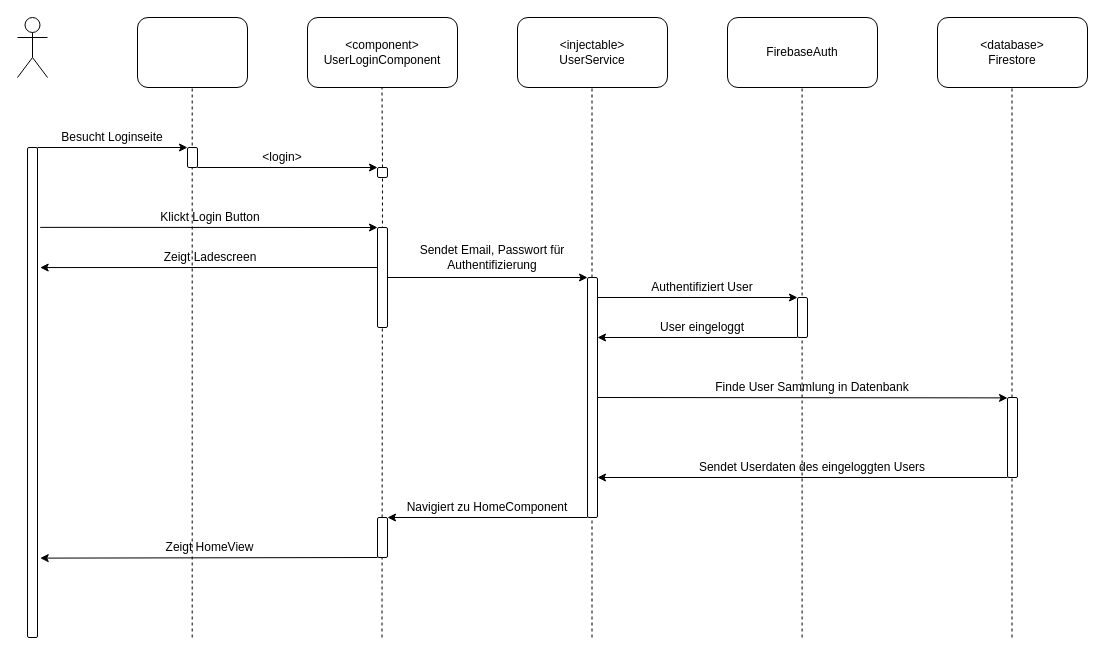
Image size: 1105x656. Some labels were removed from this diagram. Each missing label, with the centre of its shape:
"<html> index" goes at pixel 192 52.
"User" goes at pixel 32 47.
